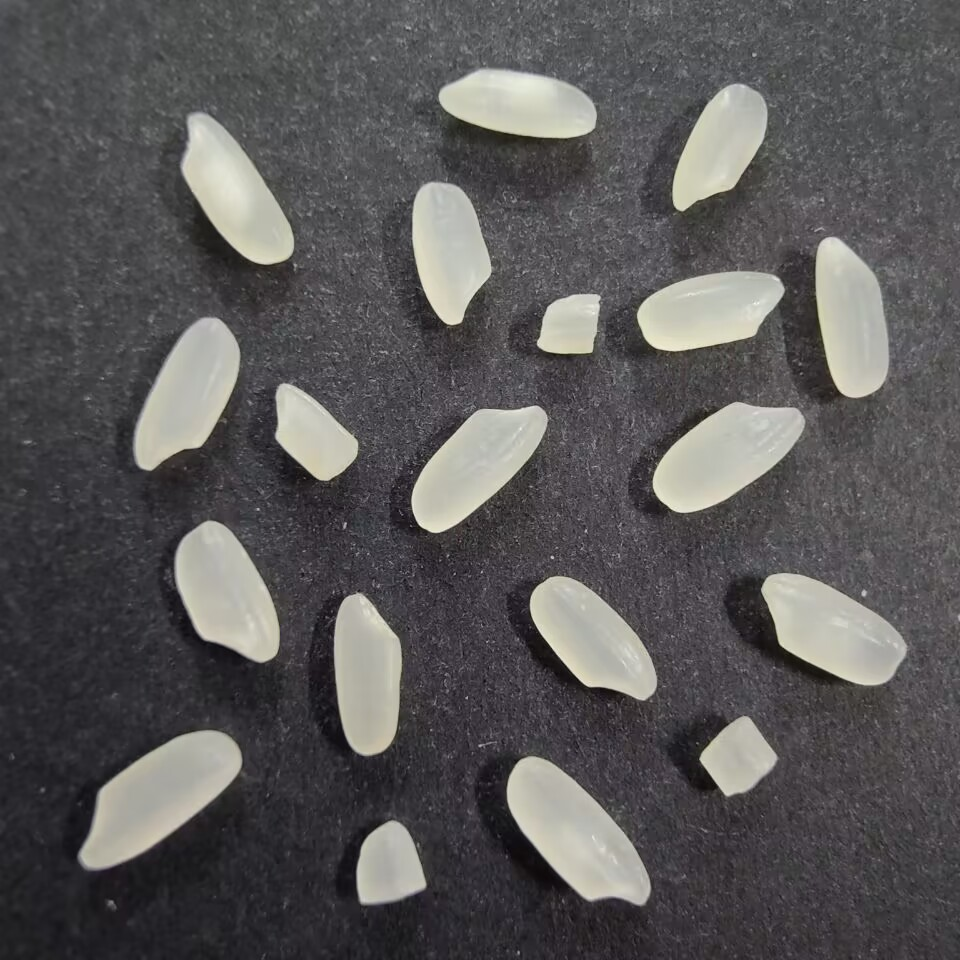broken: (269, 382, 363, 483), (349, 817, 428, 913), (693, 711, 779, 799), (531, 291, 606, 360)
rice: (70, 727, 247, 877), (504, 752, 653, 912), (173, 109, 301, 269), (406, 403, 551, 537), (649, 397, 807, 516), (130, 315, 243, 476), (759, 568, 909, 688), (526, 571, 659, 704), (168, 518, 285, 666), (809, 234, 893, 400), (408, 181, 498, 331), (635, 266, 788, 354), (669, 80, 769, 214), (329, 587, 405, 757), (435, 68, 598, 142)
